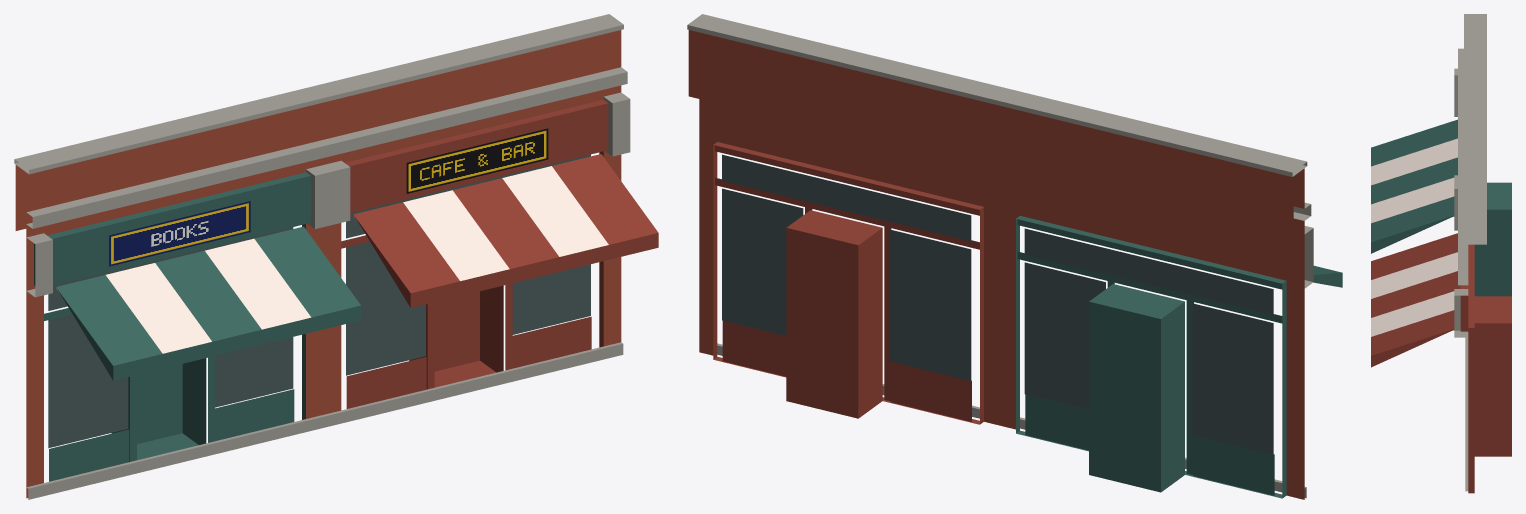
3 renders of one model, left to right at view 1: azimuth 30°, elevation 25°; view 2: azimuth 150°, elevation 25°; view 3: azimuth 270°, elevation 25°, orthographic. The views are drawn at different scales.
Visible parts, largest first — view 1: a2003/700/base-w1; view 2: a2003/700/base-w1; view 3: a2003/700/base-w1.
Part boxes in pixels (<box>): a2003/700/base-w1: <box>14,14,658,499</box>; a2003/700/base-w1: <box>687,14,1342,499</box>; a2003/700/base-w1: <box>1371,14,1511,493</box>.
Size of the model in its own units: 8.4 by 4.46 by 2.2.
